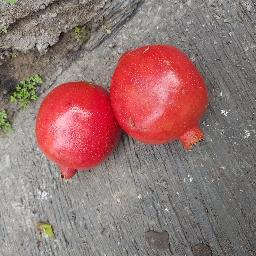Good_pomegranate: (114, 42, 215, 159), (30, 82, 116, 183)
